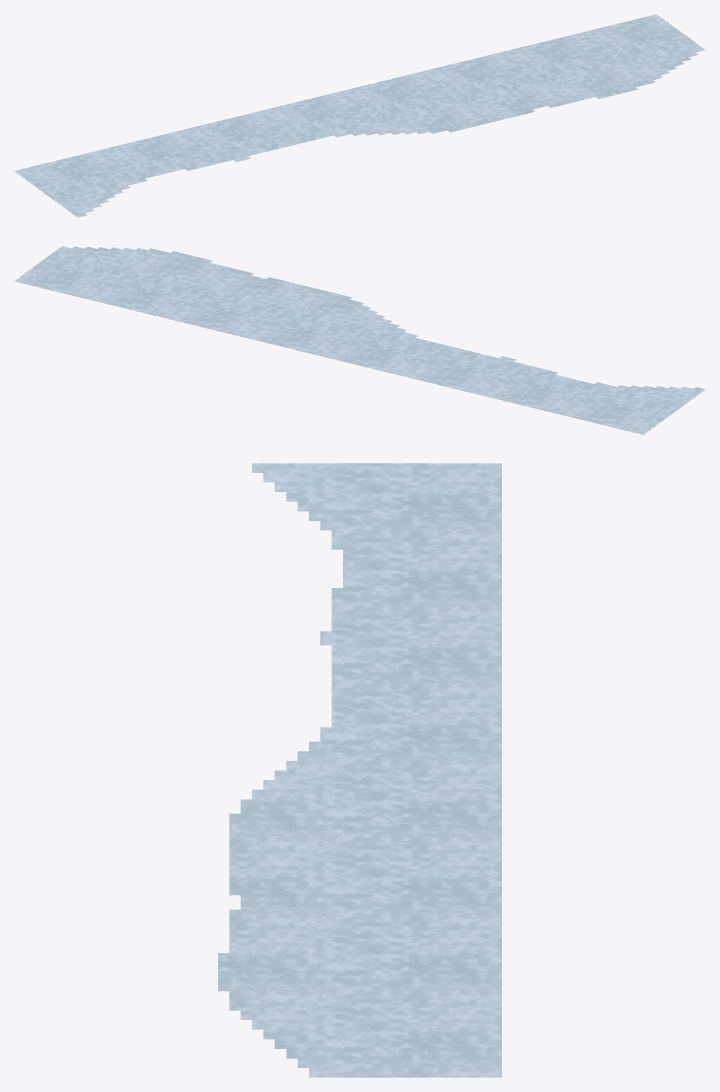
The model's file is suvanto-ice.obj.
3 renders of one model, top to bottom at view 1: azimuth 30°, elevation 25°; view 2: azimuth 150°, elevation 25°; view 3: azimuth 270°, elevation 25°, orthographic. The views are drawn at different scales.
Visible parts, largest first — view 1: SuvantoIce; view 2: SuvantoIce; view 3: SuvantoIce.
Boxes of the visible parts, x1,y1,x2,y2 form: SuvantoIce: (14, 14, 705, 217); SuvantoIce: (14, 246, 705, 434); SuvantoIce: (218, 463, 501, 1077).
Size of the model in its own units: 512 by 0 by 100.
Materials: 1 (1 with a texture image).
